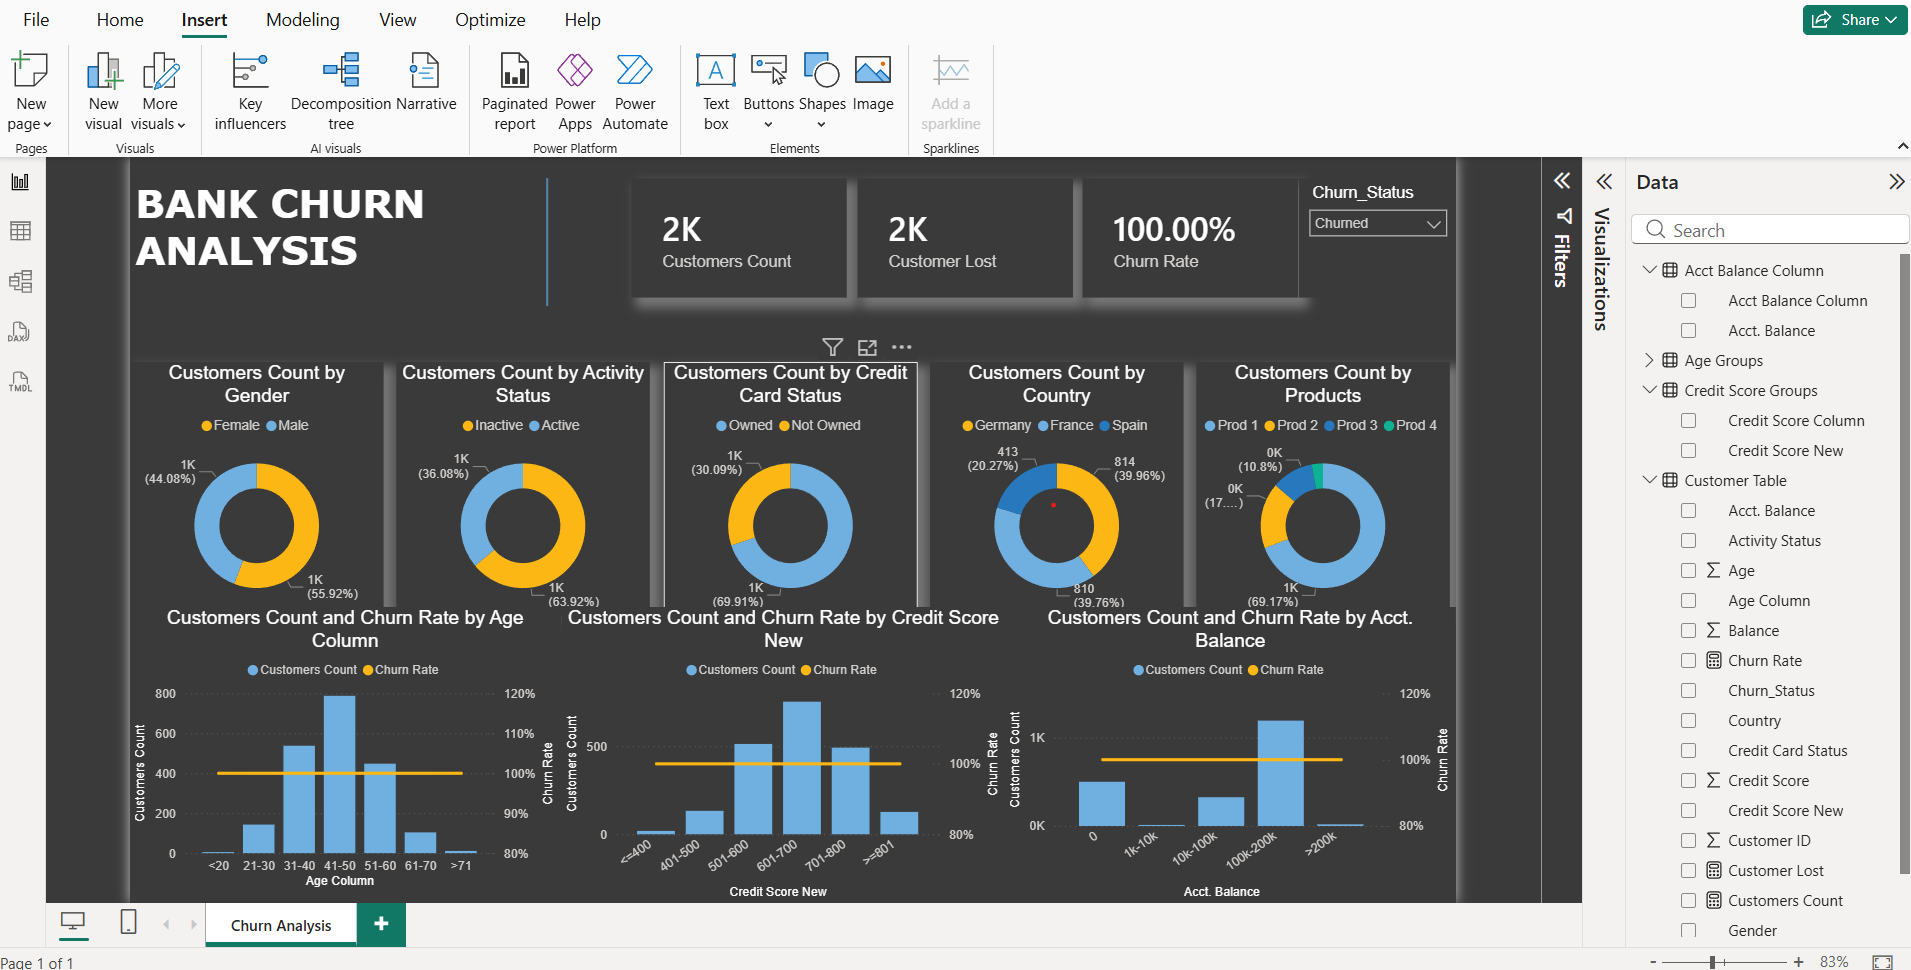

The page's visual inventory and layout, read from the dashboard file:
{"tool":"powerbi","page":{"name":"Churn Analysis","canvas":[1280,720],"ordinal":0},"visuals":[{"type":"cardVisual","fields":{"Data":["Customer Table.Customers Count"]},"box":[484.2,20.8,207.9,114.9],"z":0},{"type":"cardVisual","fields":{"Data":["Customer Table.Customer Lost"]},"box":[701.9,20.8,207.9,114.9],"z":1000},{"type":"cardVisual","fields":{"Data":["Customer Table.Churn Rate"]},"box":[919.6,20.8,207.9,114.9],"z":2000},{"type":"donutChart","fields":{"Category":["Customer Table.Gender"],"Y":["Customer Table.Customers Count"]},"box":[0,198.1,245,245],"z":3000},{"type":"donutChart","fields":{"Y":["Customer Table.Customers Count"],"Category":["Customer Table.Activity Status"]},"box":[257.4,198.1,245,245],"z":4000},{"type":"donutChart","fields":{"Y":["Customer Table.Customers Count"],"Category":["Customer Table.Credit Card Status"]},"box":[514.8,198.1,245,245],"z":5000},{"type":"donutChart","fields":{"Y":["Customer Table.Customers Count"],"Category":["Customer Table.Country"]},"box":[772.2,198.1,245,245],"z":6000},{"type":"donutChart","fields":{"Y":["Customer Table.Customers Count"],"Category":["Customer Table.Products"]},"box":[1029.6,198.1,245,245],"z":7000},{"type":"lineStackedColumnComboChart","fields":{"Category":["Age Groups.Age Column"],"Y":["Customer Table.Customers Count"],"Y2":["Customer Table.Churn Rate"]},"box":[0,434.1,415.8,276.4],"z":8000},{"type":"lineStackedColumnComboChart","fields":{"Y":["Customer Table.Customers Count"],"Y2":["Customer Table.Churn Rate"],"Category":["Credit Score Groups.Credit Score New"]},"box":[415.8,434.1,429.2,286.1],"z":9000},{"type":"lineStackedColumnComboChart","fields":{"Y":["Customer Table.Customers Count"],"Y2":["Customer Table.Churn Rate"],"Category":["Acct Balance Column.Acct. Balance"]},"box":[845,434.1,435.3,286.1],"z":10000},{"type":"textbox","box":[0,0,484.2,144.3],"z":11000},{"type":"slicer","fields":{"Values":["Customer Table.Churn_Status"]},"box":[1127.5,20.8,152.9,114.9],"z":12000},{"type":"shape","box":[380.3,20.8,45.2,123.5],"z":12001}]}

Visuals, with their boxes on the page's 1280x720 design canvas (x1, y1, x2, y2). These are canvas units, not pixel positions in the 1911x970 screenshot, which may show the page scaled, cropped or inside an application window:
cardVisual - Customer Table.Customers Count: detection(484, 21, 692, 136)
cardVisual - Customer Table.Customer Lost: detection(702, 21, 910, 136)
cardVisual - Customer Table.Churn Rate: detection(920, 21, 1128, 136)
donutChart - Customer Table.Gender x Customer Table.Customers Count: detection(0, 198, 245, 443)
donutChart - Customer Table.Customers Count x Customer Table.Activity Status: detection(257, 198, 502, 443)
donutChart - Customer Table.Customers Count x Customer Table.Credit Card Status: detection(515, 198, 760, 443)
donutChart - Customer Table.Customers Count x Customer Table.Country: detection(772, 198, 1017, 443)
donutChart - Customer Table.Customers Count x Customer Table.Products: detection(1030, 198, 1275, 443)
lineStackedColumnComboChart - Age Groups.Age Column x Customer Table.Customers Count: detection(0, 434, 416, 710)
lineStackedColumnComboChart - Customer Table.Customers Count x Customer Table.Churn Rate: detection(416, 434, 845, 720)
lineStackedColumnComboChart - Customer Table.Customers Count x Customer Table.Churn Rate: detection(845, 434, 1280, 720)
textbox: detection(0, 0, 484, 144)
slicer - Customer Table.Churn_Status: detection(1128, 21, 1280, 136)
shape: detection(380, 21, 426, 144)
